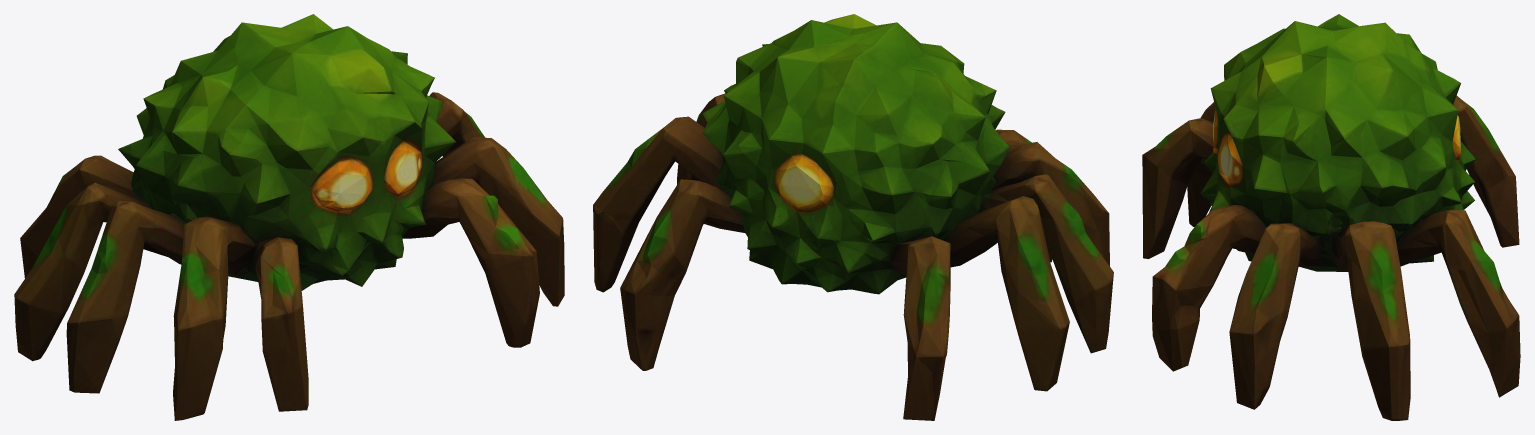
Rendered from monstre_araignee_de_mousse.glb.
3 views of the same model, side by side, from view 1: azimuth 30°, elevation 25°; view 2: azimuth 150°, elevation 25°; view 3: azimuth 270°, elevation 25° (orthographic). The views are drawn at different scales.
Visible parts, largest first — view 1: geometry_0; view 2: geometry_0; view 3: geometry_0.
Boxes of the visible parts, x1,y1,x2,y2 form: geometry_0: (14, 14, 564, 420); geometry_0: (593, 14, 1113, 420); geometry_0: (1142, 14, 1520, 420).
Bounding box in the file's own units: 0.9959 × 0.6136 × 0.7031.
Materials: 1 (1 with a texture image).
